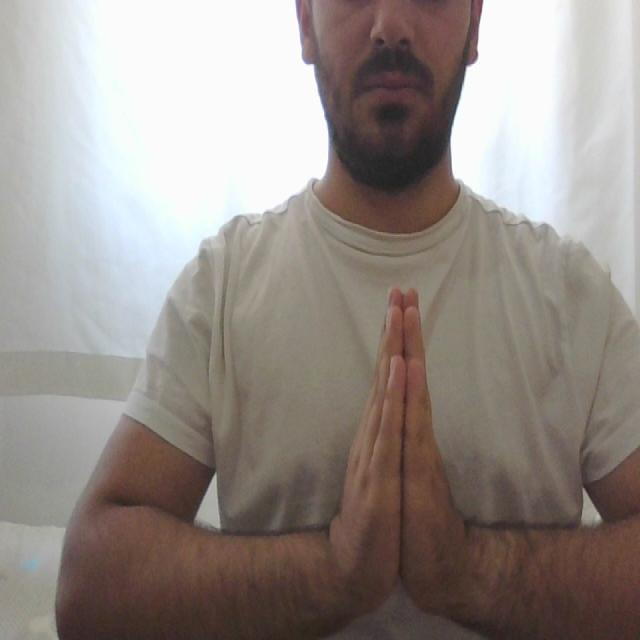Ozur-Dilemek: (318, 272, 483, 632)
